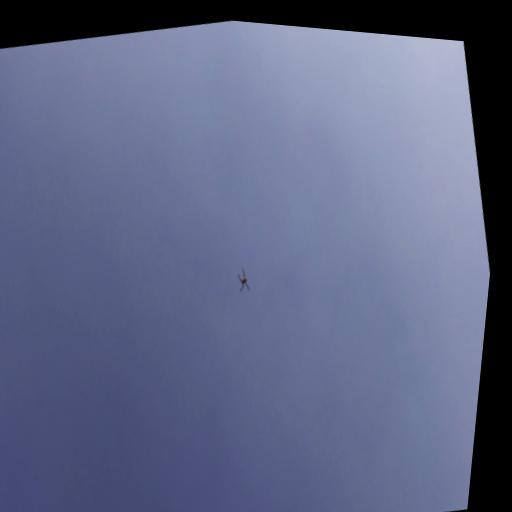drones: (233, 265, 253, 294)
